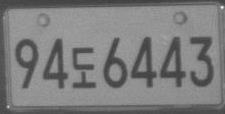3: (189, 35, 215, 87)
4: (129, 36, 157, 88), (159, 35, 186, 88), (41, 38, 68, 89)
6: (102, 37, 128, 89)
9: (14, 37, 39, 90)
도: (71, 45, 96, 89)
